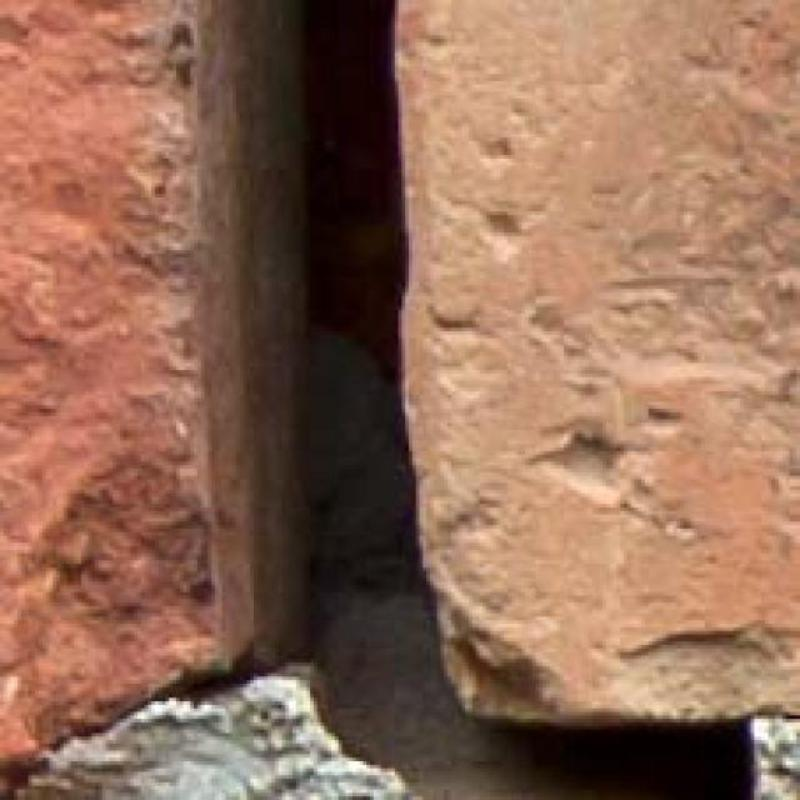pothole: (0, 0, 750, 799)
